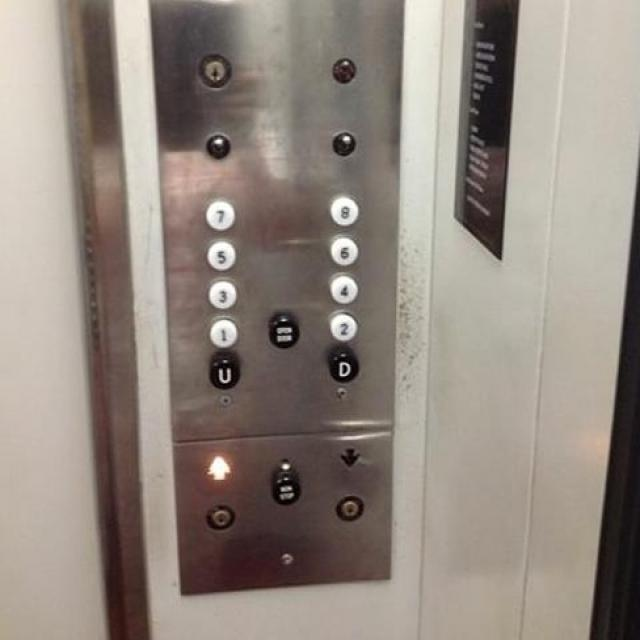1: (205, 313, 238, 347)
2: (326, 309, 356, 340)
3: (206, 277, 236, 308)
4: (329, 272, 358, 304)
5: (204, 237, 234, 271)
6: (328, 235, 357, 264)
7: (202, 196, 236, 229)
8: (327, 193, 358, 226)
D: (325, 348, 358, 381)
U: (206, 354, 239, 389)
down: (334, 443, 360, 468)
indicator: (326, 55, 356, 84), (202, 130, 232, 158), (332, 130, 355, 158)
keyhole: (196, 52, 232, 88), (206, 502, 235, 530), (333, 493, 363, 520)
text: (268, 460, 302, 504), (268, 310, 299, 346)
up: (203, 452, 231, 481)
